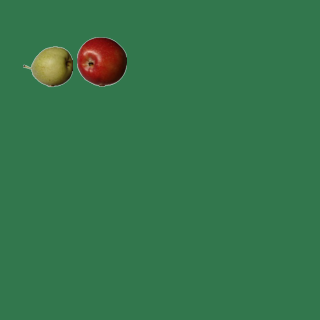Apple Braeburn: (76, 36, 126, 86)
Pear: (22, 41, 72, 91)
